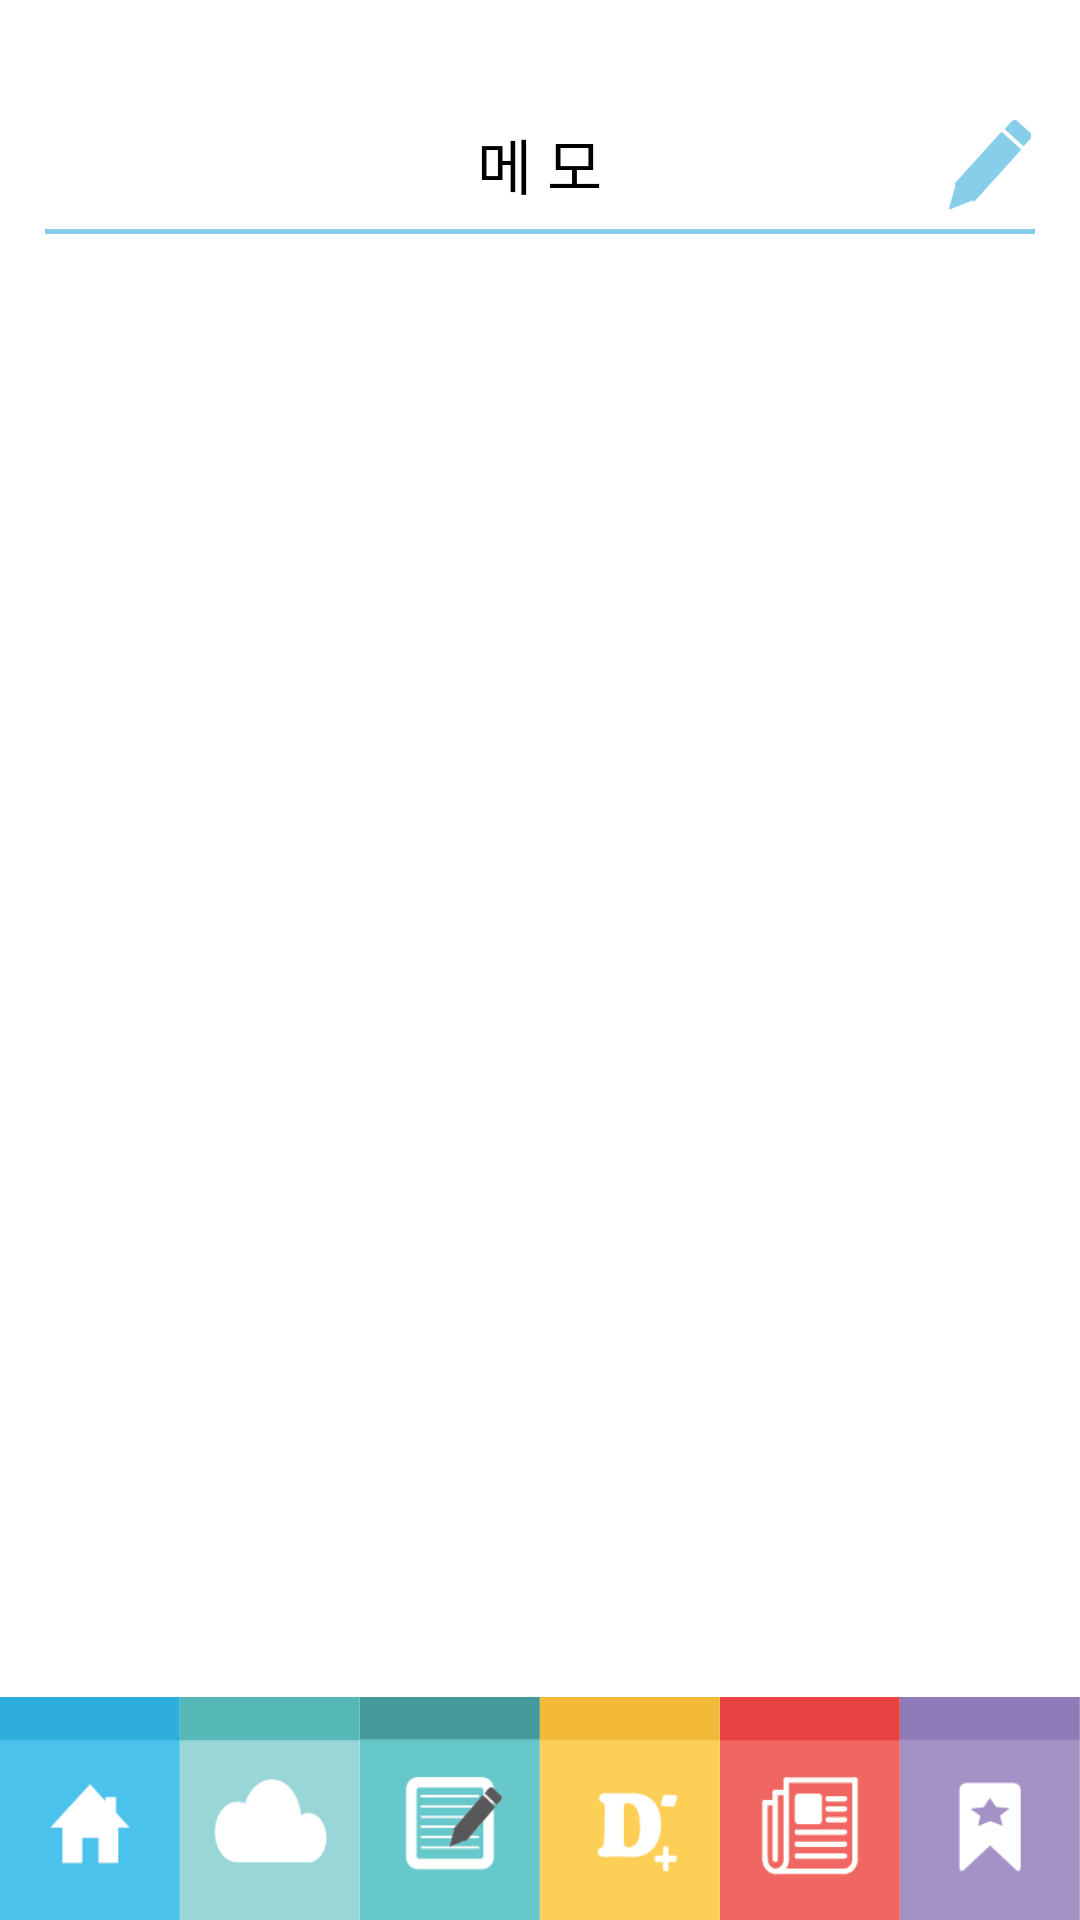

Icon click points for this 1080×1920 phone screenshot, format (x,y):
bookmark: (990,1808)
dday: (630,1808)
memo: (450,1808)
news: (810,1808)
write: (990,165)
